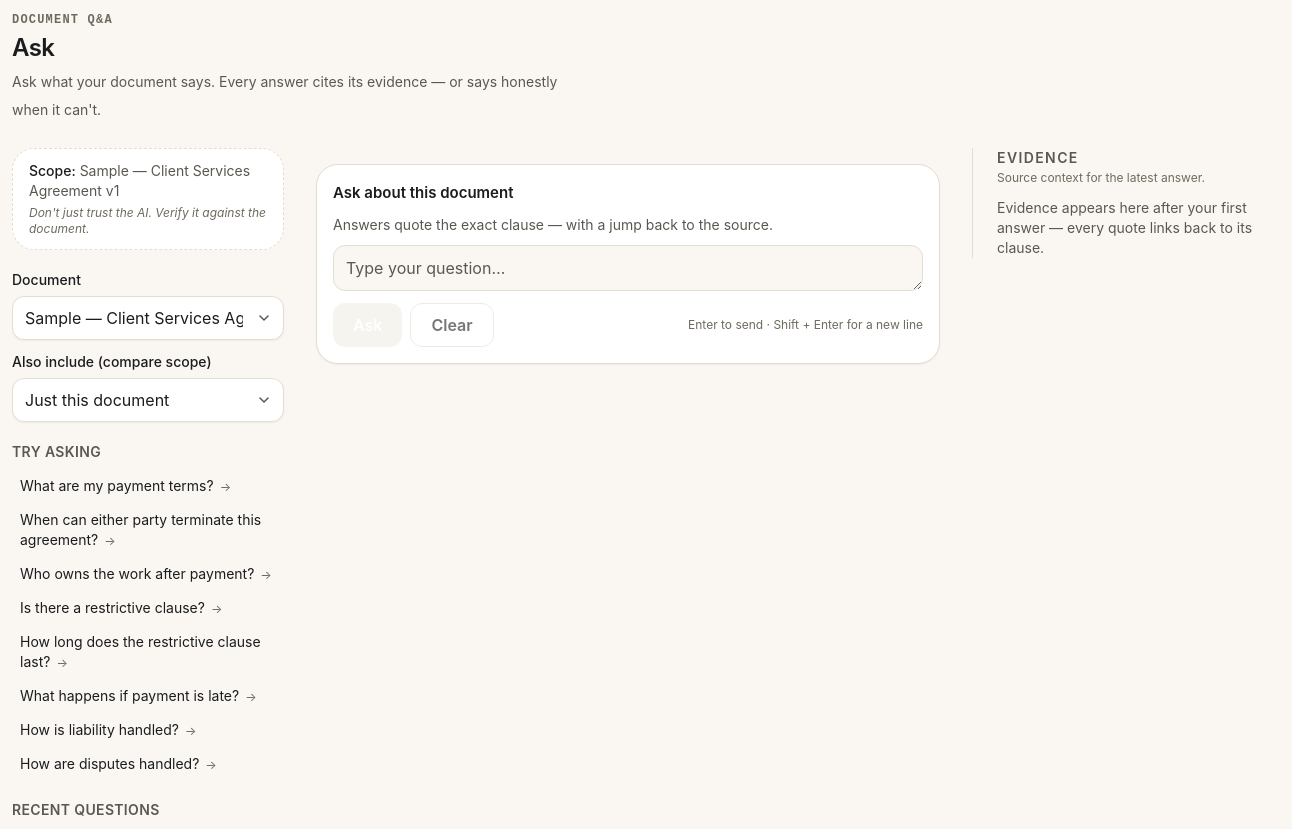
Test: AskWorkspace › renders insufficient and out-of-scope shapes honestly
Type "What does the agreement say about dragons?" into the text box labelled "Ask about this document" at (628,268), box [333,245,923,291]
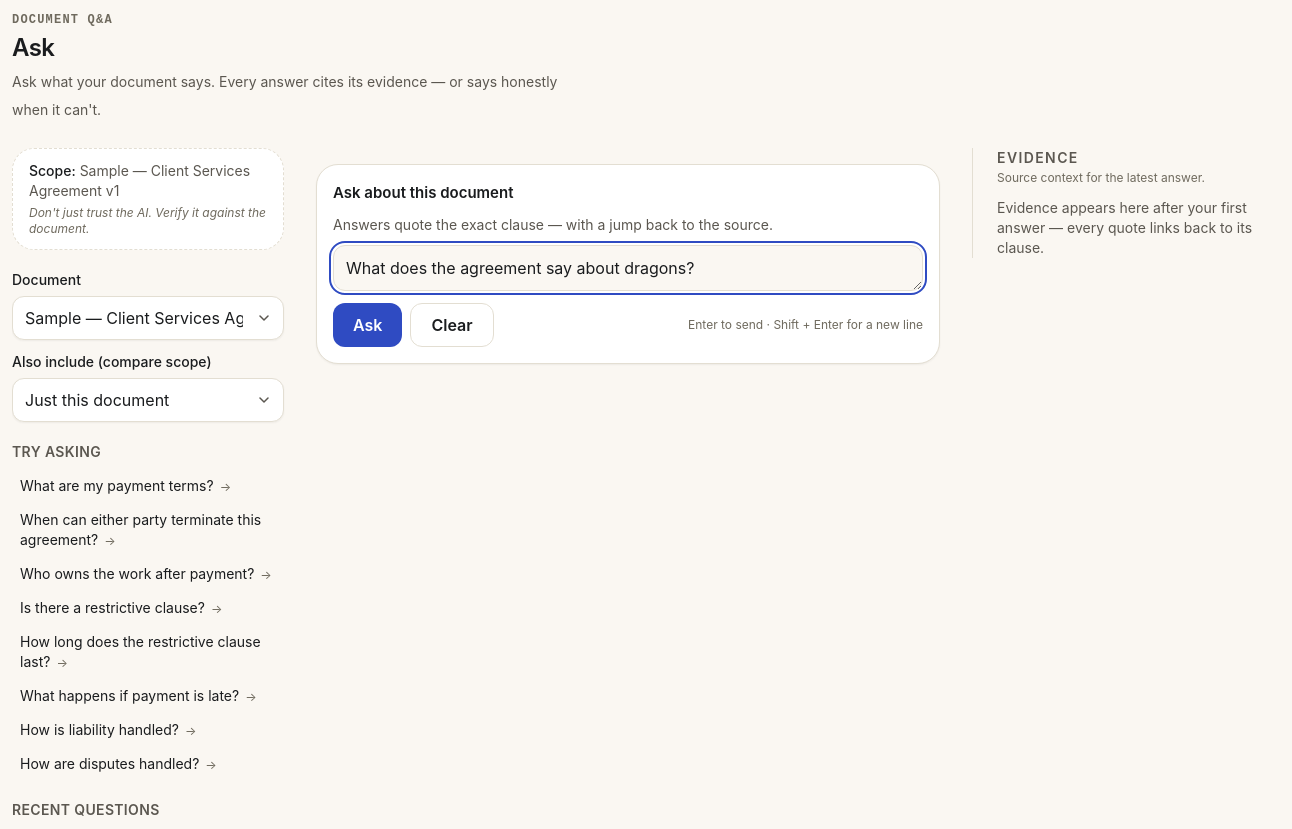
Click the button "Ask" at (368,325), box [333,303,402,347]
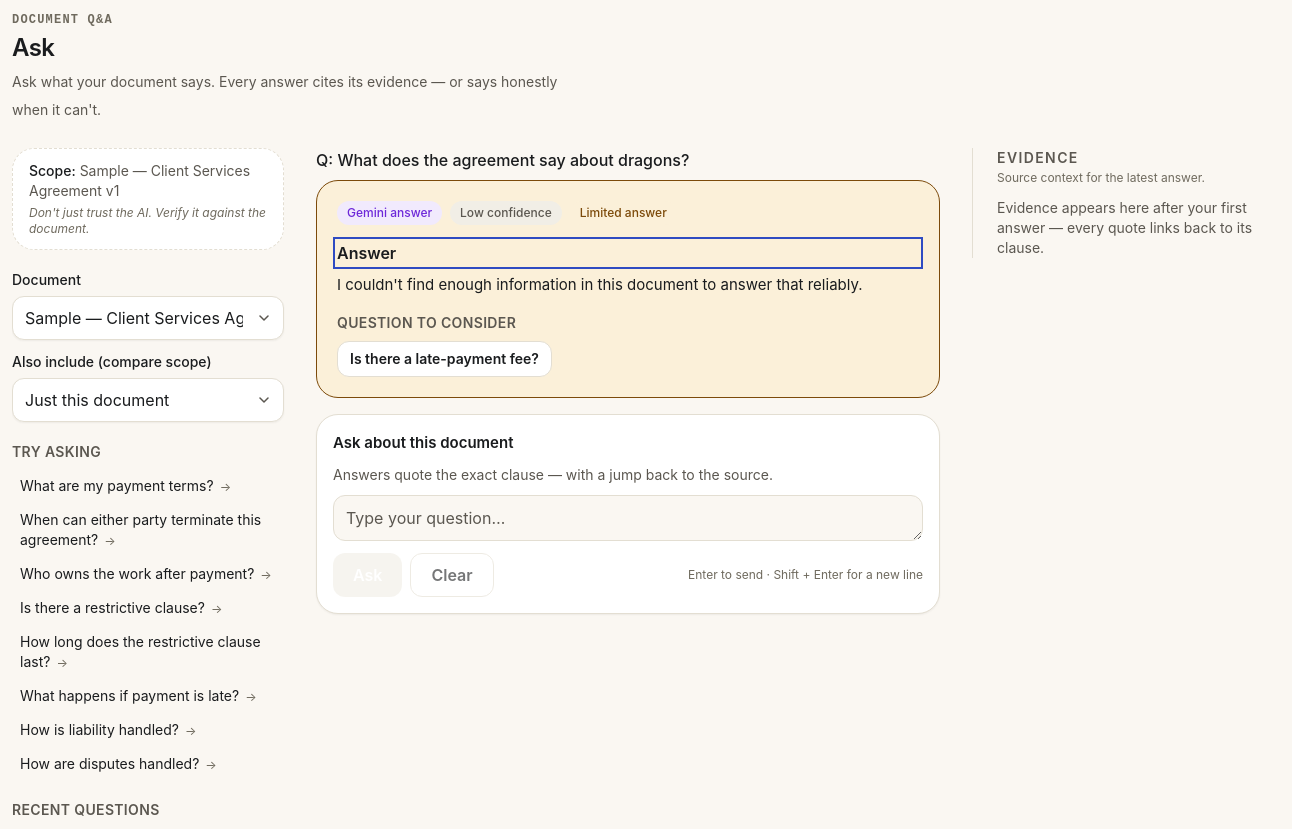
Expected: the text "couldn't find enough information" is shown, [337,275,862,294]
Expected: the text "Limited answer" is shown, [570,201,677,225]
